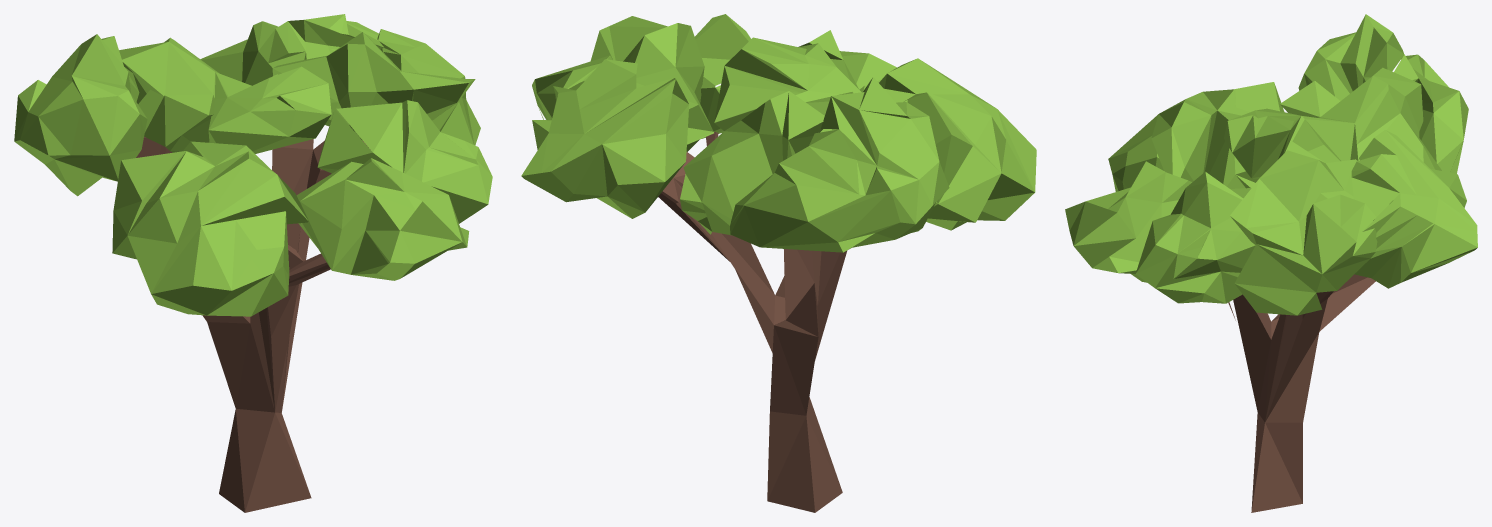
File: canopy.glb
3 views of the same model, side by side, from view 1: azimuth 30°, elevation 25°; view 2: azimuth 150°, elevation 25°; view 3: azimuth 270°, elevation 25° (orthographic). The views are drawn at different scales.
Bounding box in the file's own units: 1.65 × 1.74 × 1.52.
